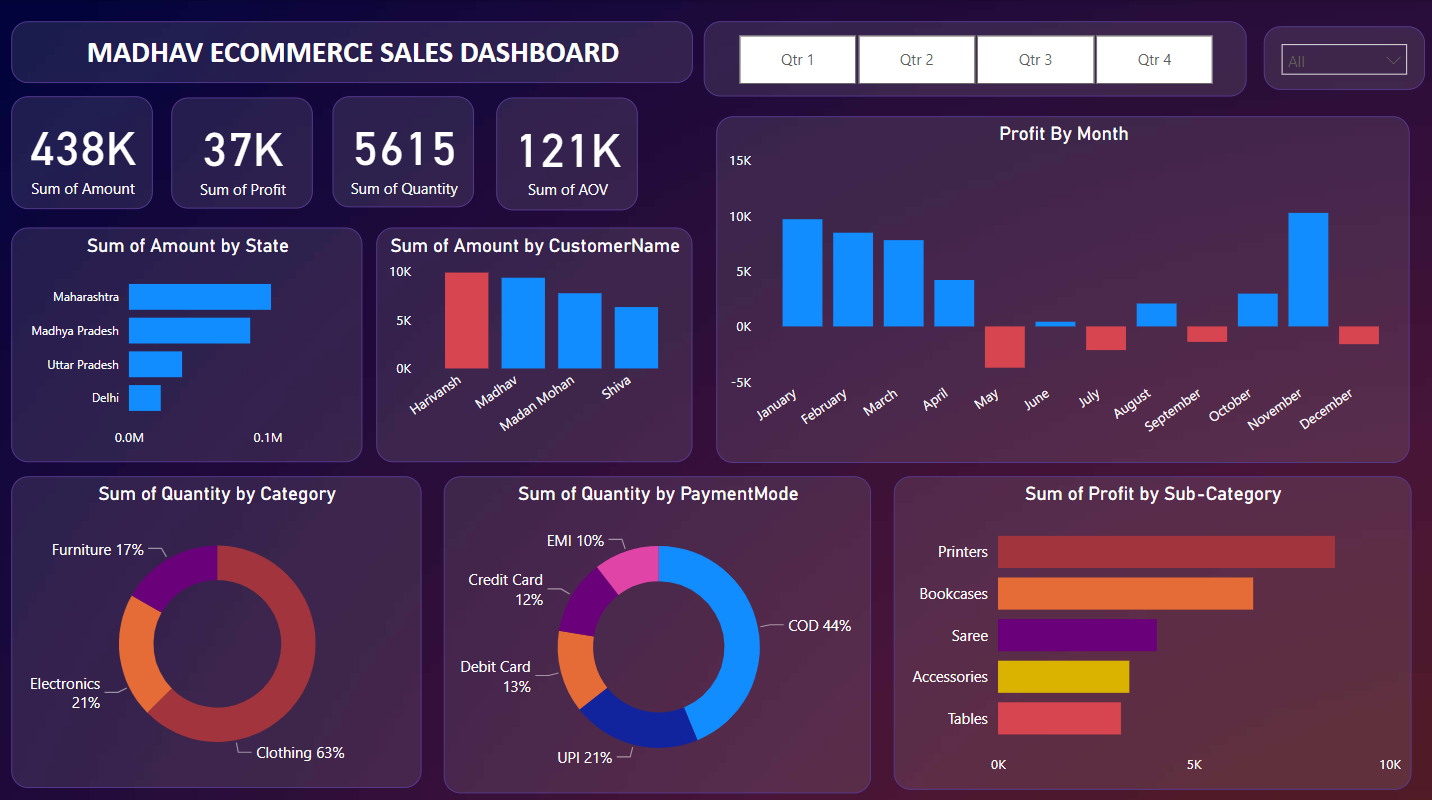

Layout of this report page (visuals, bound fields, positions):
{"tool":"powerbi","page":{"name":"Page 1","canvas":[1280,720],"ordinal":0},"visuals":[{"type":"textbox","box":[9.6,19.2,608.7,54.8],"z":0},{"type":"columnChart","title":"Profit By Month","fields":{"Category":["Orders.Order Date.Variation.Date Hierarchy.Month"],"Y":["Details.Profit"]},"box":[639.6,103.8,619.5,309.2],"z":1000},{"type":"clusteredBarChart","fields":{"Category":["Details.Sub-Category"],"Y":["Details.Profit"]},"box":[797.9,425,462,279.7],"z":2000},{"type":"donutChart","fields":{"Category":["Details.Category"],"Y":["Details.Quantity"]},"box":[9.6,425,366.1,278.3],"z":3000},{"type":"donutChart","fields":{"Y":["Details.Quantity"],"Category":["Details.PaymentMode"]},"box":[396.3,425.3,381.8,283.5],"z":4000},{"type":"card","fields":{"Values":["Details.Amount"]},"box":[10,86,126.1,100.5],"z":5000},{"type":"card","fields":{"Values":["Details.Quantity"]},"box":[296.9,86,126.1,99.3],"z":6000},{"type":"card","fields":{"Values":["Details.Profit"]},"box":[152.9,87.1,126.1,99.3],"z":7000},{"type":"card","fields":{"Values":["Details.AOV"]},"box":[443.2,87.1,126.1,100.5],"z":8000},{"type":"clusteredBarChart","fields":{"Category":["Orders.State"],"Y":["Details.Amount"]},"box":[9.6,202.9,314,209.8],"z":9000},{"type":"columnChart","fields":{"Category":["Orders.CustomerName"],"Y":["Details.Amount"]},"box":[335.9,202.9,282.4,209.8],"z":10000},{"type":"slicer","fields":{"Values":["Orders.Order Date.Variation.Date Hierarchy.Quarter"]},"box":[628.5,19,484.5,67],"z":11000},{"type":"slicer","fields":{"Values":["Orders.State"]},"box":[1128.6,23.4,144,56.9],"z":12000}]}

Visuals, with their boxes in screenshot pixels (x1, y1, x2, y2), scaled from the page's 1280x720 canvas onto the 1432x800 screenshot:
textbox: rect(11, 21, 692, 82)
"Profit By Month" columnChart: rect(716, 115, 1409, 459)
clusteredBarChart - Details.Sub-Category x Details.Profit: rect(893, 472, 1410, 783)
donutChart - Details.Category x Details.Quantity: rect(11, 472, 420, 781)
donutChart - Details.Quantity x Details.PaymentMode: rect(443, 473, 870, 788)
card - Details.Amount: rect(11, 96, 152, 207)
card - Details.Quantity: rect(332, 96, 473, 206)
card - Details.Profit: rect(171, 97, 312, 207)
card - Details.AOV: rect(496, 97, 637, 208)
clusteredBarChart - Orders.State x Details.Amount: rect(11, 225, 362, 459)
columnChart - Orders.CustomerName x Details.Amount: rect(376, 225, 692, 459)
slicer - Orders.Order Date.Variation.Date Hierarchy.Quarter: rect(703, 21, 1245, 96)
slicer - Orders.State: rect(1263, 26, 1424, 89)
